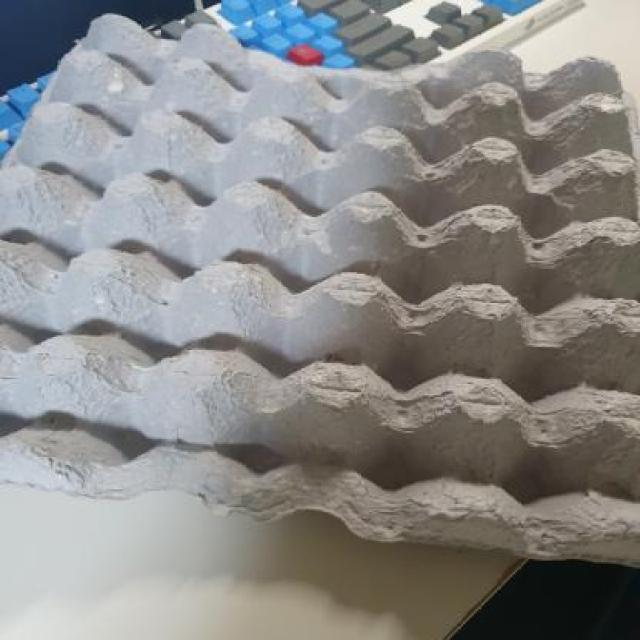box: (4, 10, 640, 600)
